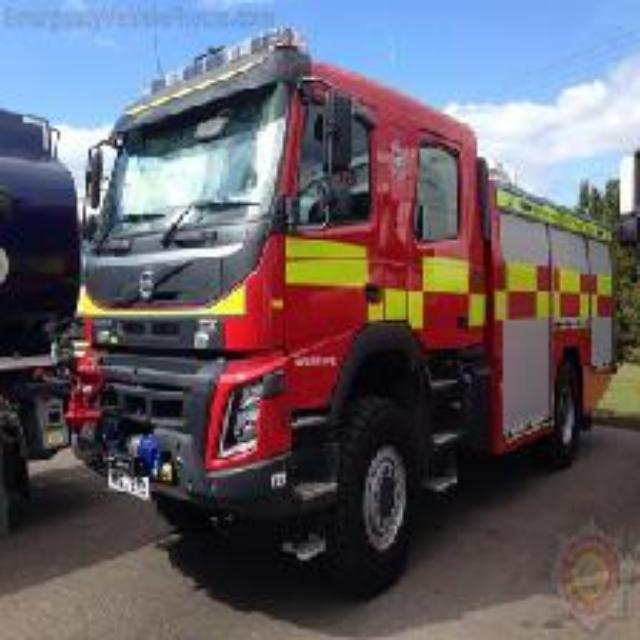emergency: (62, 28, 618, 584)
